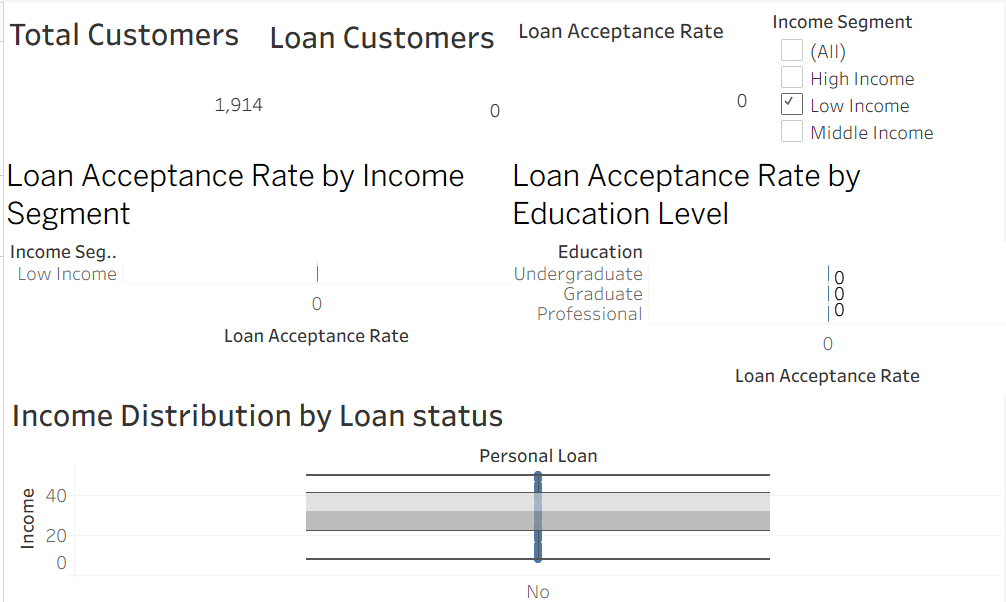

The dashboard page shown, as its layout file describes it:
{"tool":"tableau","page":{"name":"Credit Risk & Personal Loan Exposure – Executive Dashboard","canvas":[1000,600],"ordinal":0},"visuals":[{"type":"worksheet","title":"Sheet 4","mark":"Text","box":[1,6,262,136]},{"type":"filter","title":"Sheet 4","param":"[federated.1skoty71kwa6qm1ggbrz10yncnrp].[none:Income_Segment:nk]","box":[768,6,217,137]},{"type":"worksheet","title":"Sheet 5","mark":"Automatic","box":[261,9,239,141]},{"type":"worksheet","title":"Sheet 6","mark":"Automatic","box":[510,10,237,132]},{"type":"worksheet","title":"Sheet 2","mark":"Automatic","rows":["Education"],"cols":["Calculation_1847756021620736"],"box":[504,150,499,263]},{"type":"worksheet","title":"Sheet 3","mark":"Circle","rows":["Income"],"cols":["Personal_Loan"],"box":[3,387,995,215]}]}

Visuals, with their boxes in screenshot pixels (x1, y1, x2, y2), scaled from the page's 1000x600 canvas onto the 1006x602 screenshot:
"Sheet 4" worksheet (Text marks): [1, 6, 265, 142]
"Sheet 4" filter: [773, 6, 991, 143]
"Sheet 5" worksheet: [263, 9, 503, 150]
"Sheet 6" worksheet: [513, 10, 751, 142]
"Sheet 2" worksheet: [507, 150, 1005, 414]
"Sheet 3" worksheet (Circle marks): [3, 388, 1004, 601]
